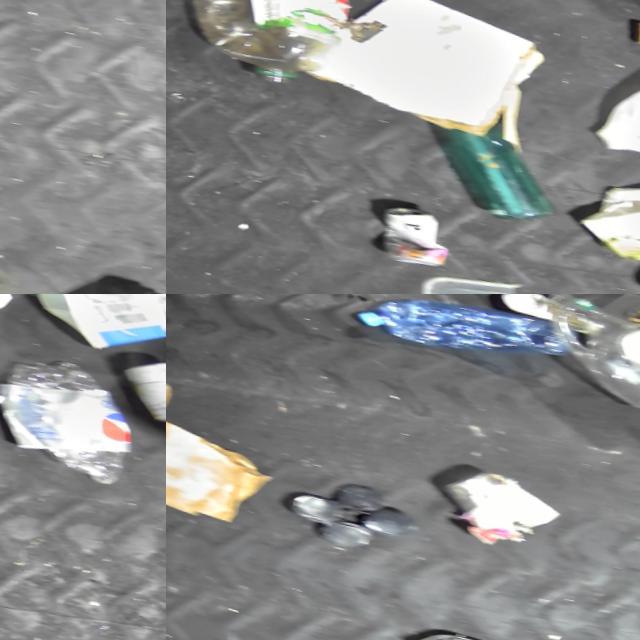can: (426, 462, 563, 556), (367, 204, 449, 275), (109, 354, 166, 440)
milk_jug: (584, 54, 640, 181)
non_white_jug: (527, 294, 640, 433)
plastic_bottle: (0, 352, 139, 496), (166, 0, 360, 100)
